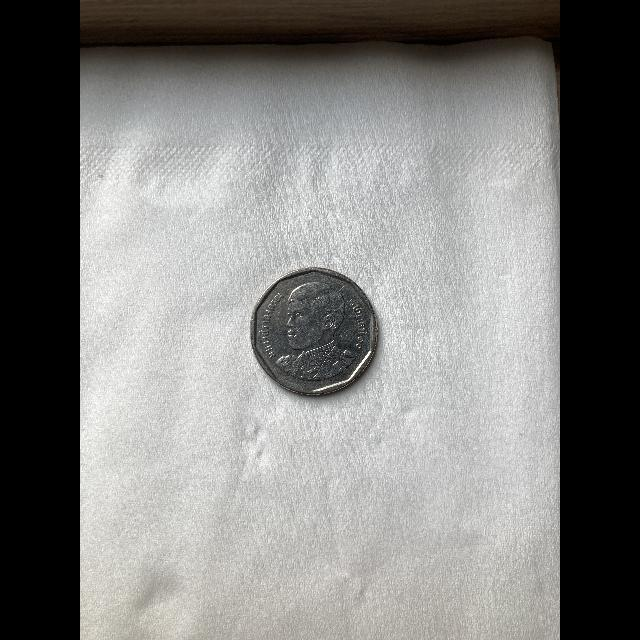5 Bath: (251, 267, 381, 401)
